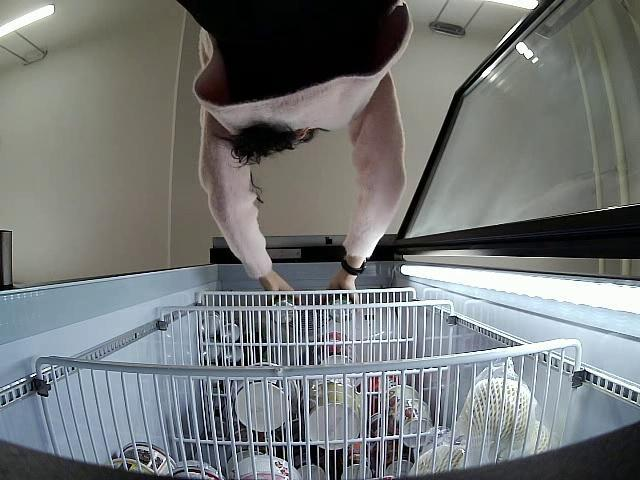18_trevi: (328, 290, 357, 324), (269, 292, 298, 326)
